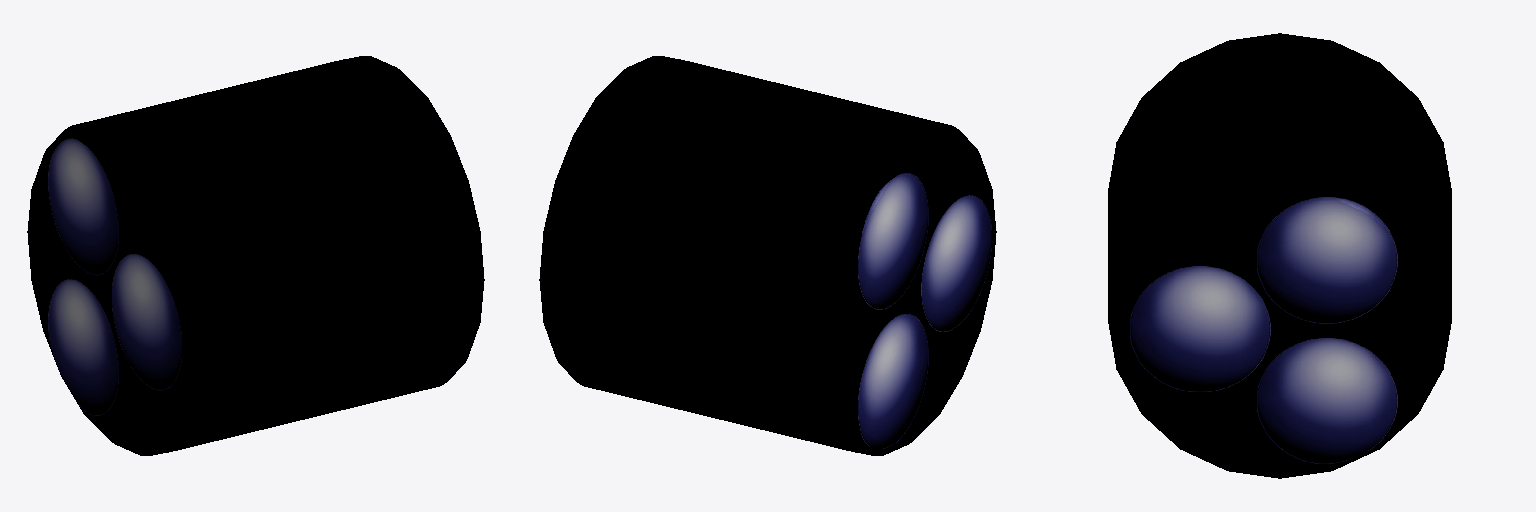
3 renders of one model, left to right at view 1: azimuth 30°, elevation 25°; view 2: azimuth 150°, elevation 25°; view 3: azimuth 270°, elevation 25°, orthographic.
Parts seen in each view (by area): view 1: default; view 2: default; view 3: default.
Boxes of the visible parts, x1,y1,x2,y2 form: default: [27, 56, 484, 455]; default: [539, 56, 996, 455]; default: [1108, 33, 1451, 478].
Size of the model in its own units: 1 by 1 by 1.
1 materials, 1 textured.